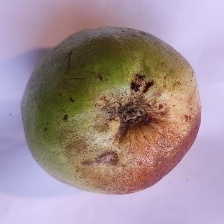guava: (15, 33, 207, 169)
